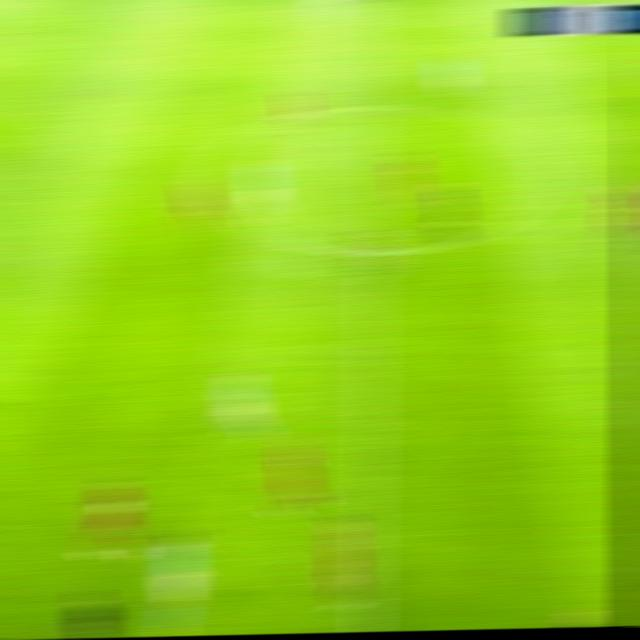halfcircle_bottom: (344, 229, 404, 277)
halfcircle_top: (354, 89, 396, 130)
midline_top_intersection: (356, 0, 397, 2)
